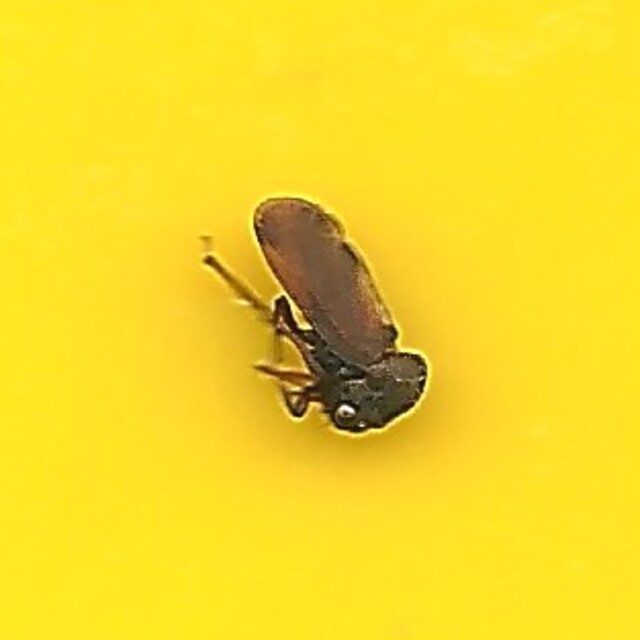Hemiptera: (204, 190, 436, 450)
